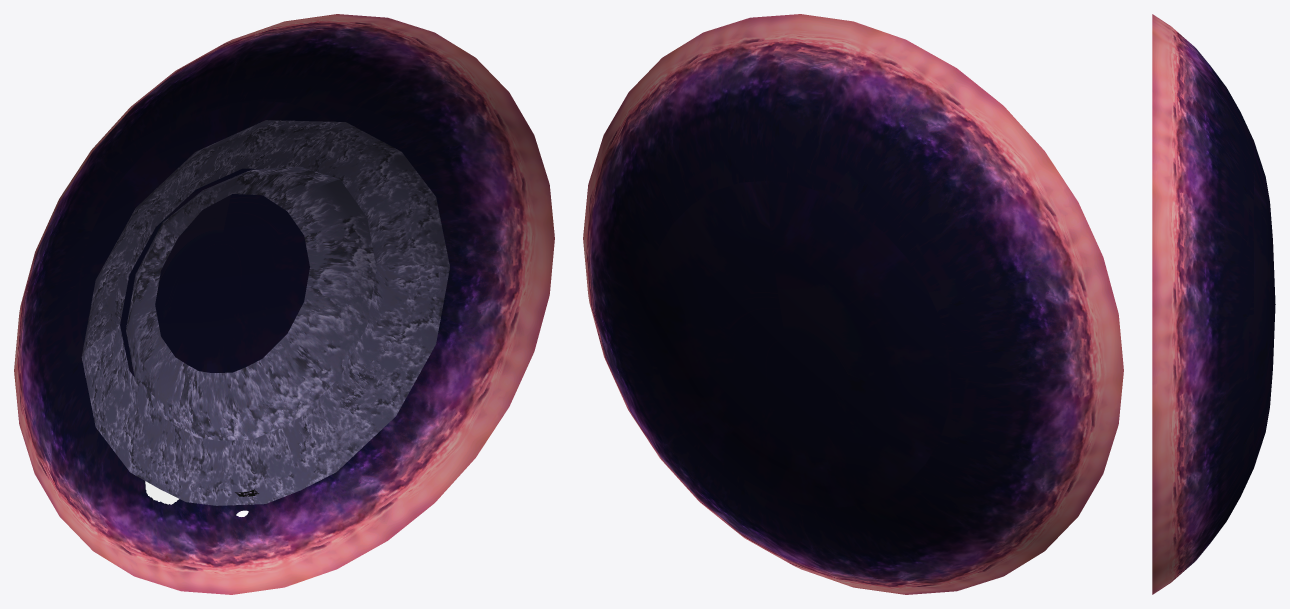
3 views of the same model, side by side, from view 1: azimuth 30°, elevation 25°; view 2: azimuth 150°, elevation 25°; view 3: azimuth 270°, elevation 25° (orthographic). The views are drawn at different scales.
Parts seen in each view (by area): view 1: s10_bgShape03 (×2); view 2: s10_bgShape03; view 3: s10_bgShape03.
Part boxes in pixels (x1,y1,x2,y2): s10_bgShape03 (×2): (14, 14, 554, 594); s10_bgShape03: (583, 14, 1123, 594); s10_bgShape03: (1152, 14, 1275, 594).
Size of the model in its own units: 37657 by 37657 by 7967.
